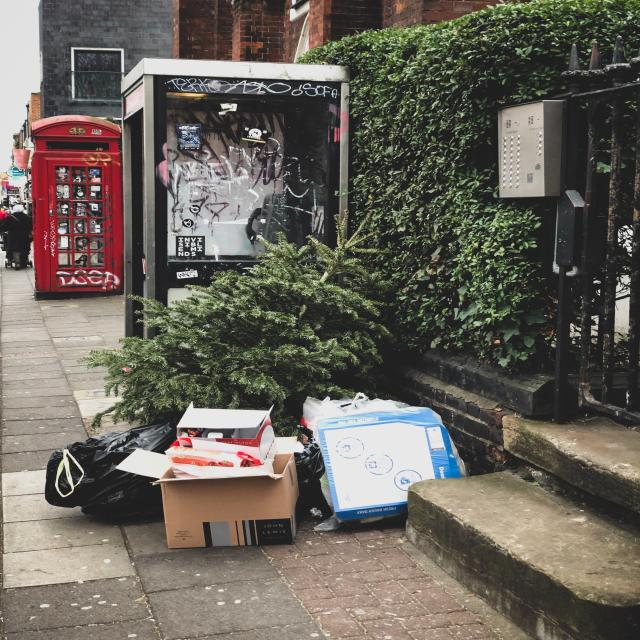cardboard: (153, 428, 306, 541), (332, 415, 432, 480)
trash: (80, 454, 145, 518)
